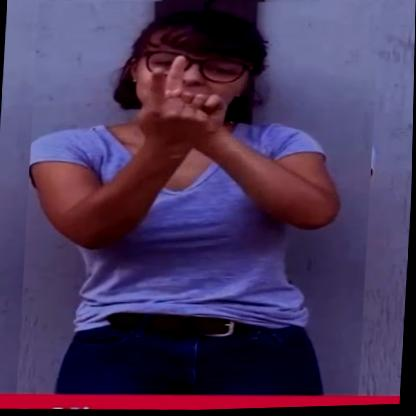NiceToMeetYou: (18, 0, 381, 412)
